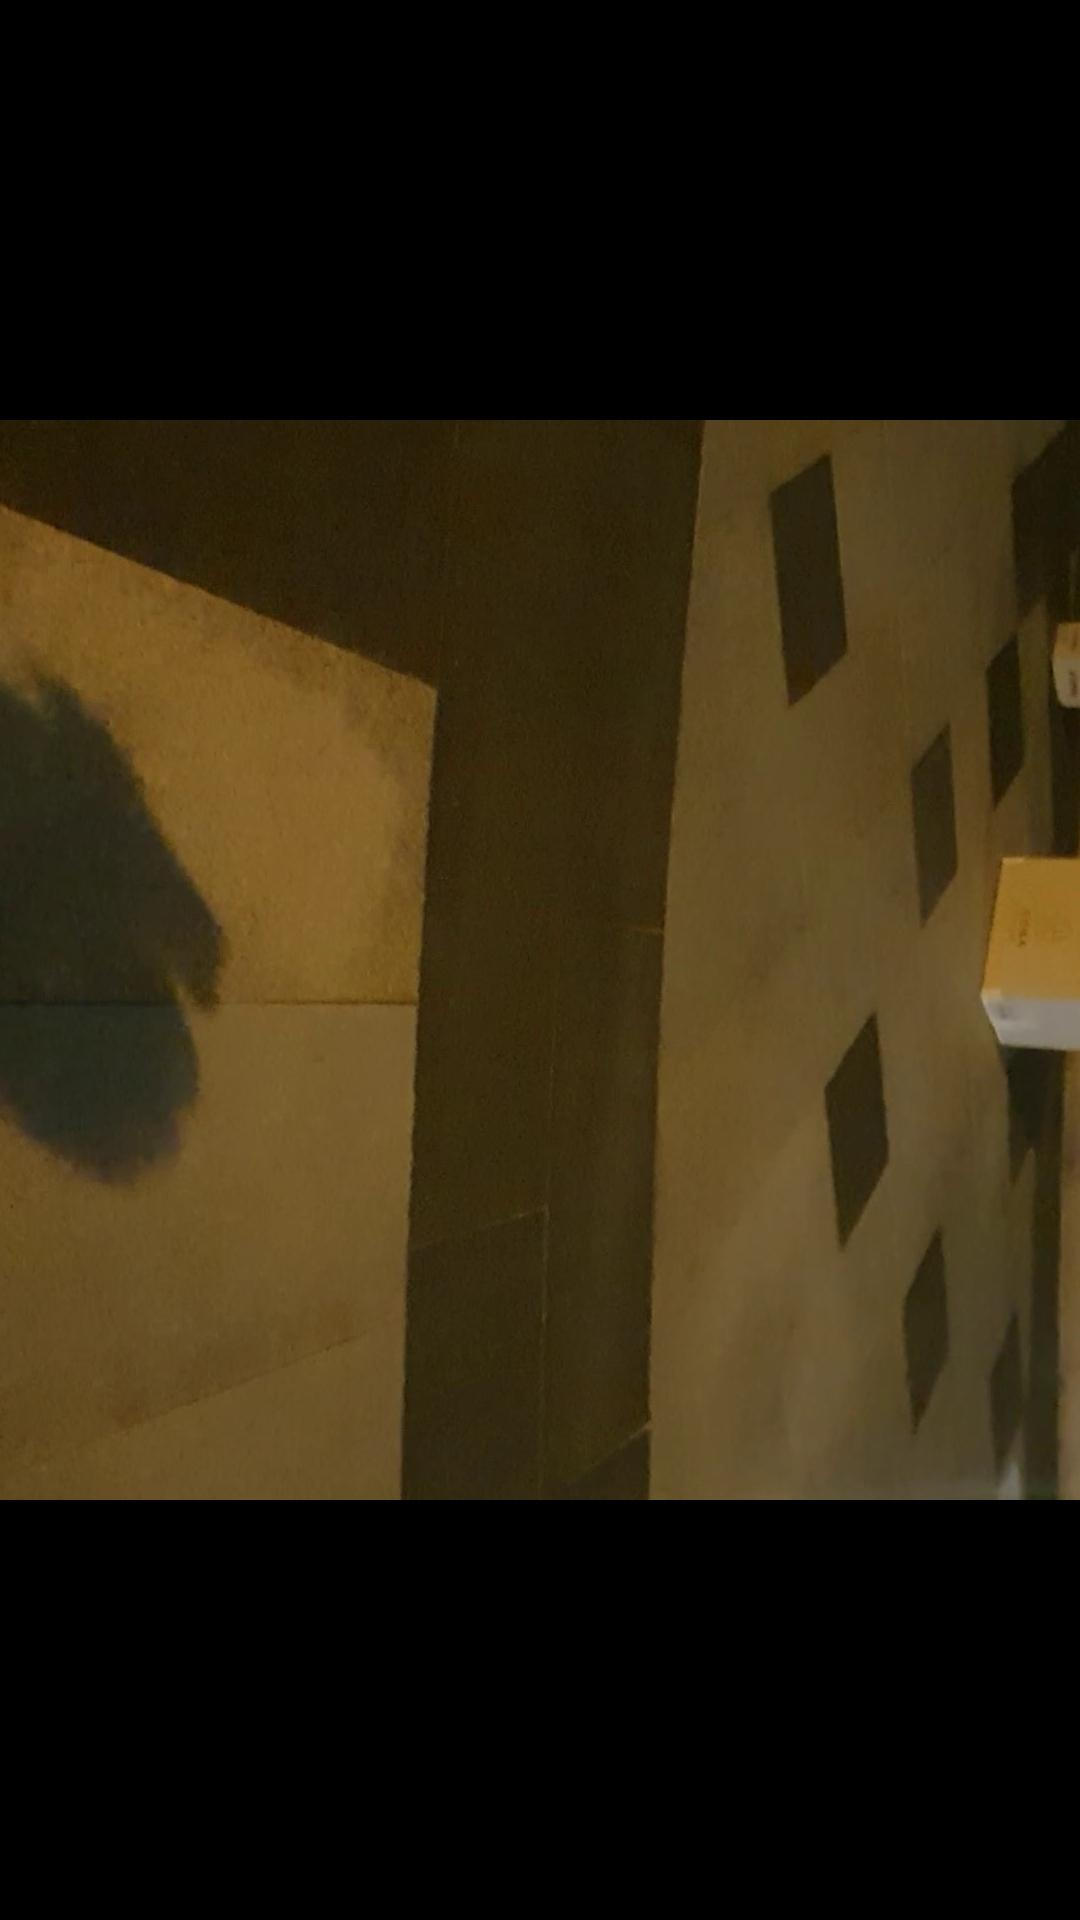Box: (975, 837, 1080, 1065), (1030, 613, 1080, 727)
